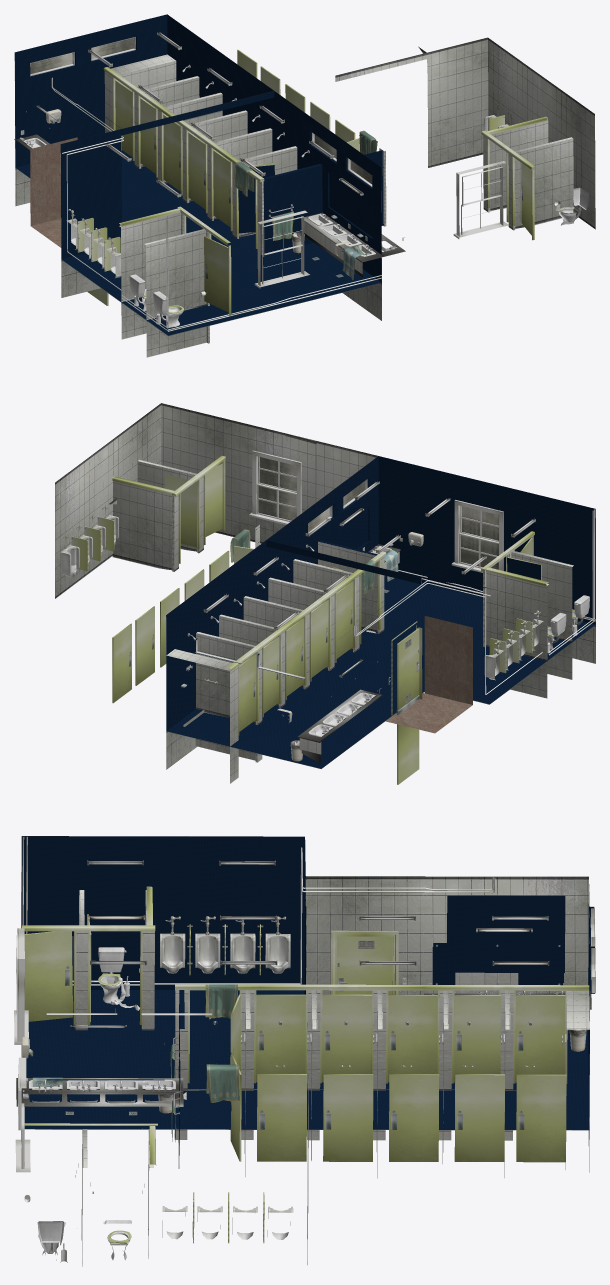
Rendered from toilet.glb.
3 renders of one model, top to bottom at view 1: azimuth 30°, elevation 25°; view 2: azimuth 150°, elevation 25°; view 3: azimuth 270°, elevation 25°, orthographic. The views are drawn at different scales.
Parts seen in each view (by area): view 1: BackSide_0, FrontSide_12, FrontSide_11, FrontSide_5, FrontSide_15, FrontSide_1, FrontSide_10, FrontSide_16, FrontSide_4, FrontSide_9, FrontSide_14; view 2: BackSide_0, FrontSide_12, FrontSide_11, FrontSide_5, FrontSide_15, FrontSide_9, FrontSide_16, FrontSide_1, FrontSide_14, FrontSide_4, FrontSide_10; view 3: BackSide_0, FrontSide_11, FrontSide_12, FrontSide_5, FrontSide_9, FrontSide_1, FrontSide_16, FrontSide_14, FrontSide_10, FrontSide_4, FrontSide_13.
Boxes of the visible parts, x1=… form: BackSide_0: x1=14, y1=14, x2=382, y2=335; FrontSide_12: x1=14, y1=15, x2=595, y2=357; FrontSide_11: x1=77, y1=49, x2=547, y2=315; FrontSide_5: x1=30, y1=37, x2=508, y2=331; FrontSide_15: x1=30, y1=137, x2=77, y2=247; FrontSide_1: x1=23, y1=138, x2=589, y2=327; FrontSide_10: x1=234, y1=130, x2=377, y2=280; FrontSide_16: x1=20, y1=32, x2=404, y2=255; FrontSide_4: x1=14, y1=134, x2=405, y2=277; FrontSide_9: x1=66, y1=115, x2=508, y2=278; FrontSide_14: x1=19, y1=64, x2=522, y2=294; BackSide_0: x1=166, y1=456, x2=595, y2=768; FrontSide_12: x1=55, y1=403, x2=595, y2=783; FrontSide_11: x1=71, y1=455, x2=548, y2=784; FrontSide_5: x1=195, y1=450, x2=595, y2=694; FrontSide_15: x1=385, y1=616, x2=472, y2=733; FrontSide_9: x1=60, y1=515, x2=543, y2=680; FrontSide_16: x1=203, y1=481, x2=535, y2=735; FrontSide_1: x1=308, y1=546, x2=589, y2=737; FrontSide_14: x1=62, y1=505, x2=540, y2=734; FrontSide_4: x1=297, y1=544, x2=400, y2=763; FrontSide_10: x1=230, y1=529, x2=398, y2=594; BackSide_0: x1=21, y1=836, x2=594, y2=1155; FrontSide_11: x1=22, y1=886, x2=589, y2=1243; FrontSide_12: x1=21, y1=836, x2=594, y2=1266; FrontSide_5: x1=14, y1=836, x2=595, y2=1172; FrontSide_9: x1=160, y1=933, x2=293, y2=1239; FrontSide_1: x1=24, y1=947, x2=433, y2=1262; FrontSide_16: x1=22, y1=860, x2=549, y2=1091; FrontSide_14: x1=23, y1=916, x2=566, y2=1224; FrontSide_10: x1=32, y1=984, x2=239, y2=1141; FrontSide_4: x1=16, y1=993, x2=591, y2=1106; FrontSide_13: x1=158, y1=1029, x2=586, y2=1113.
Size of the model in its own units: 141 by 58.27 by 123.
Materials: 18 (18 with a texture image).
